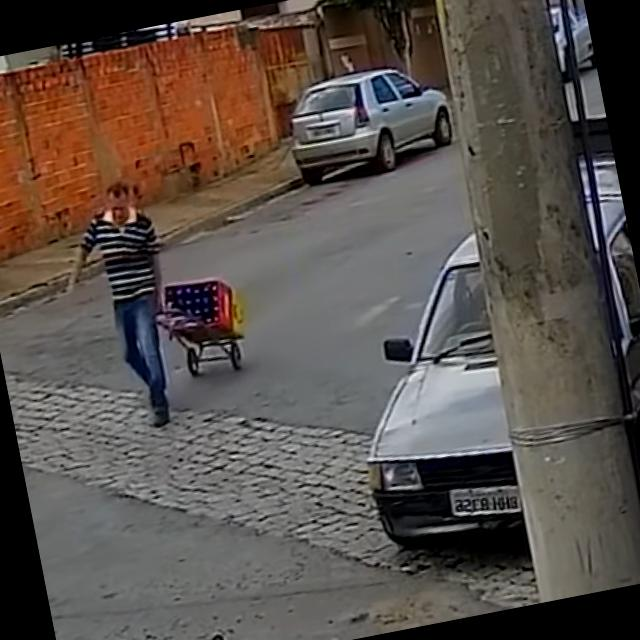person: (47, 178, 196, 435)
